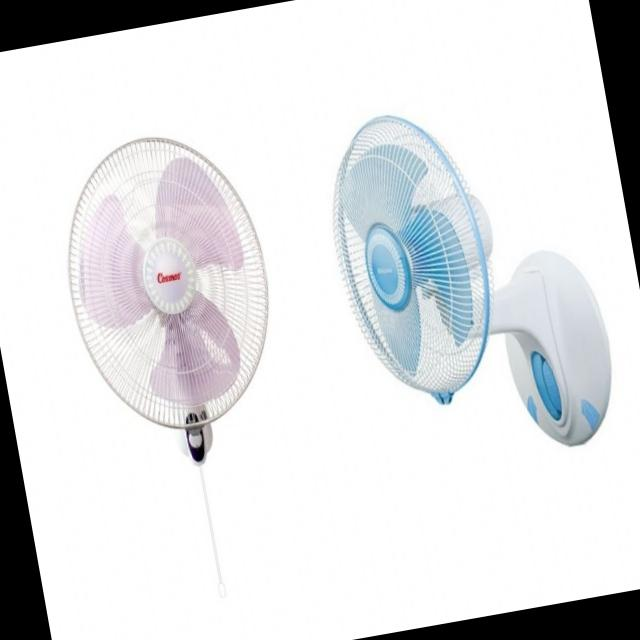fan: (32, 106, 334, 624)
